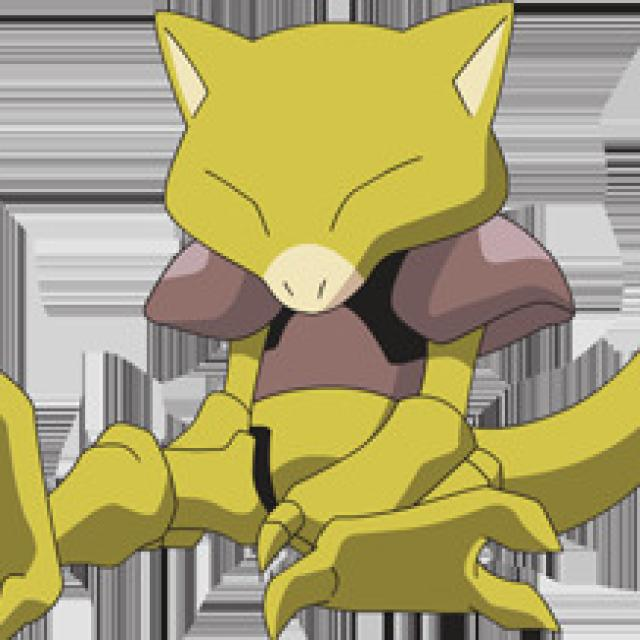Abra: (153, 1, 510, 438)
